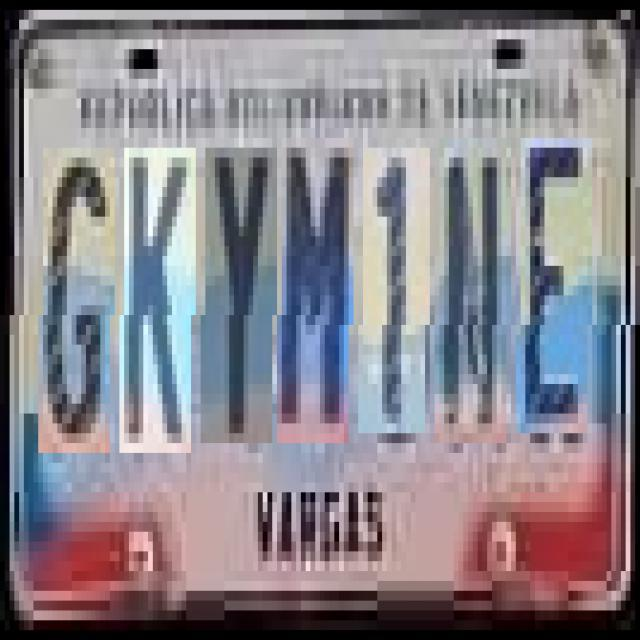1: (363, 148, 430, 434)
E: (520, 138, 592, 434)
G: (43, 148, 115, 453)
K: (124, 148, 196, 453)
M: (282, 138, 354, 443)
N: (439, 138, 511, 443)
Y: (206, 148, 276, 444)
